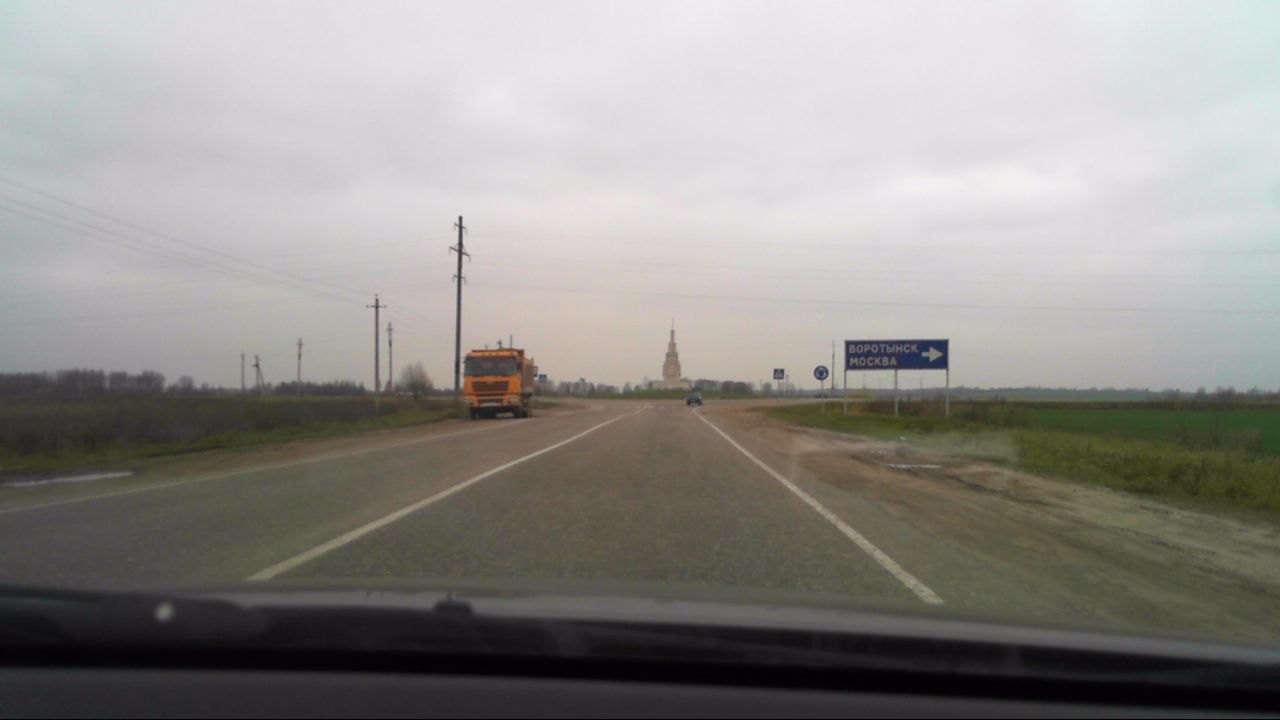Round-About: (812, 364, 830, 380)
